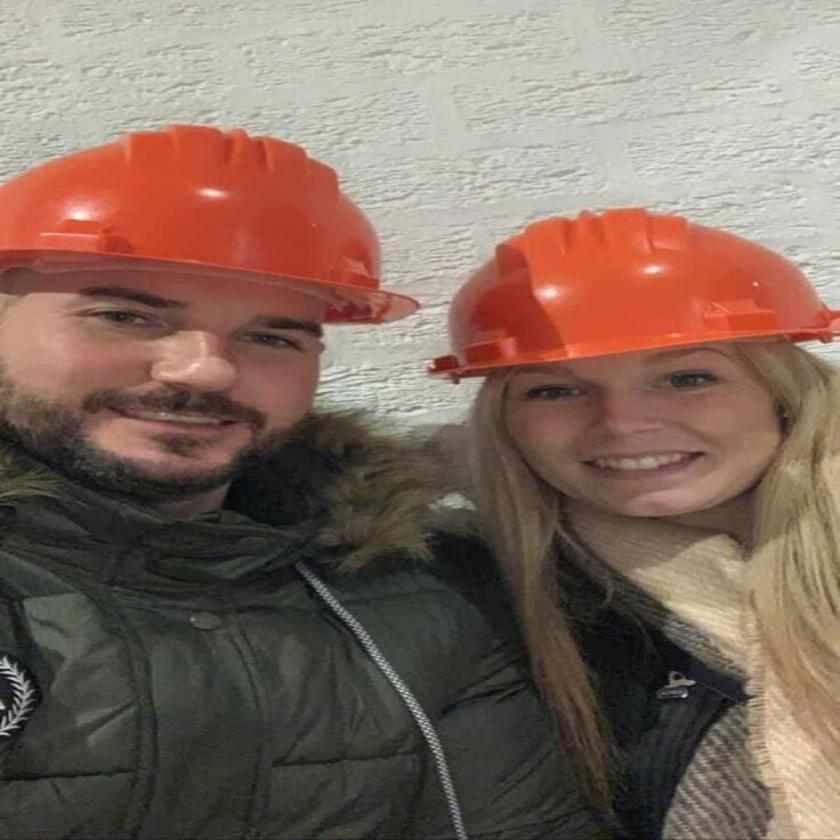Con_casco: (0, 123, 427, 531), (424, 200, 840, 547)
